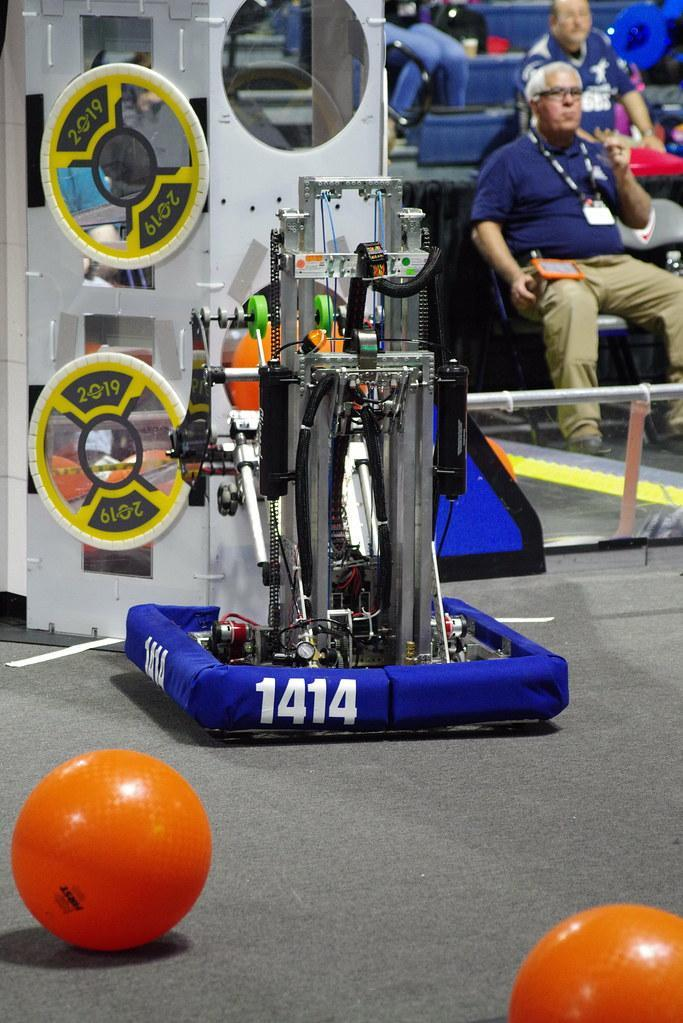robot: (113, 171, 581, 743)
